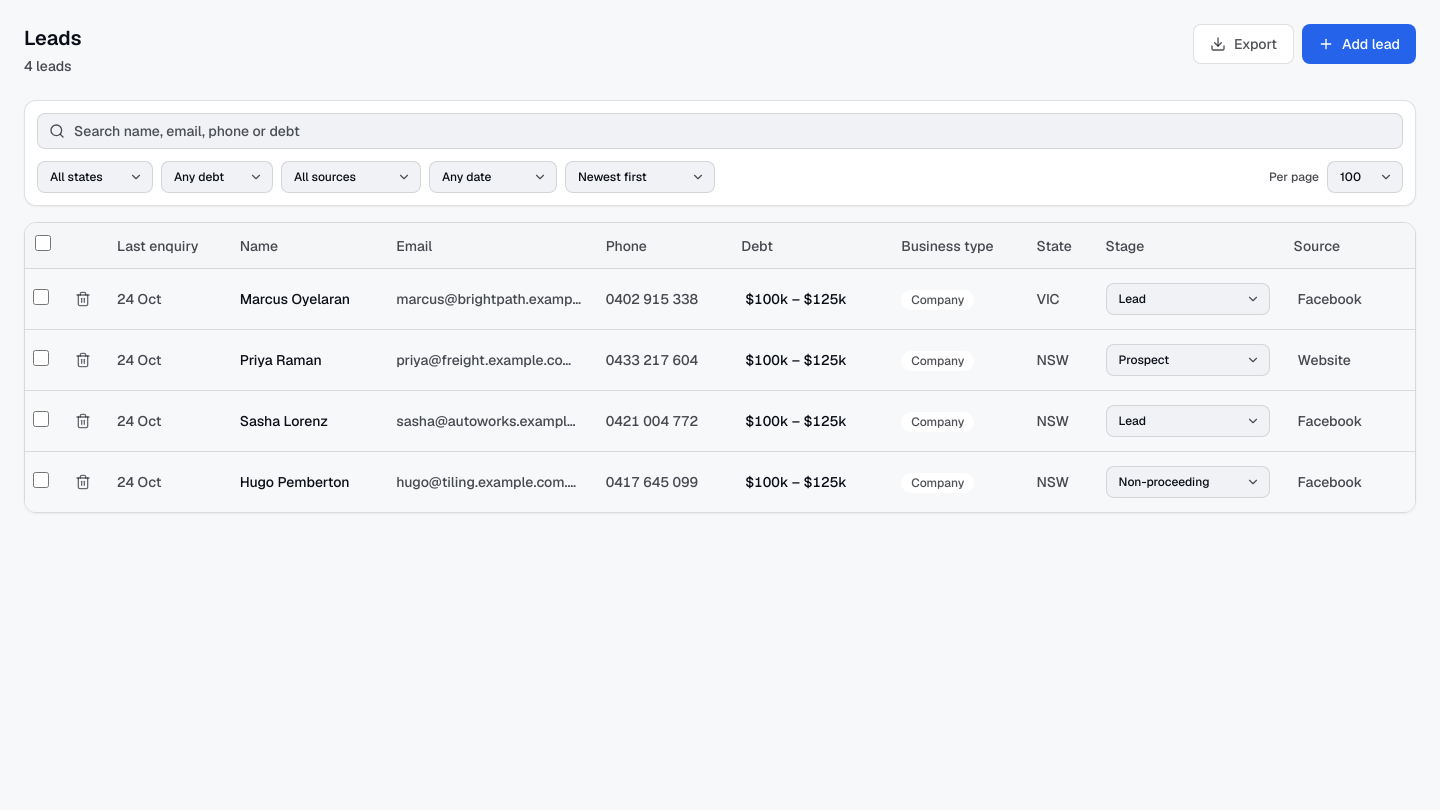
Test case: LeadsPageClient › opens the add-lead dialog with no company field
The image size is (1440, 810).
Click the button "Add lead". click: point(1359, 44)
box: [1302,24,1416,64]
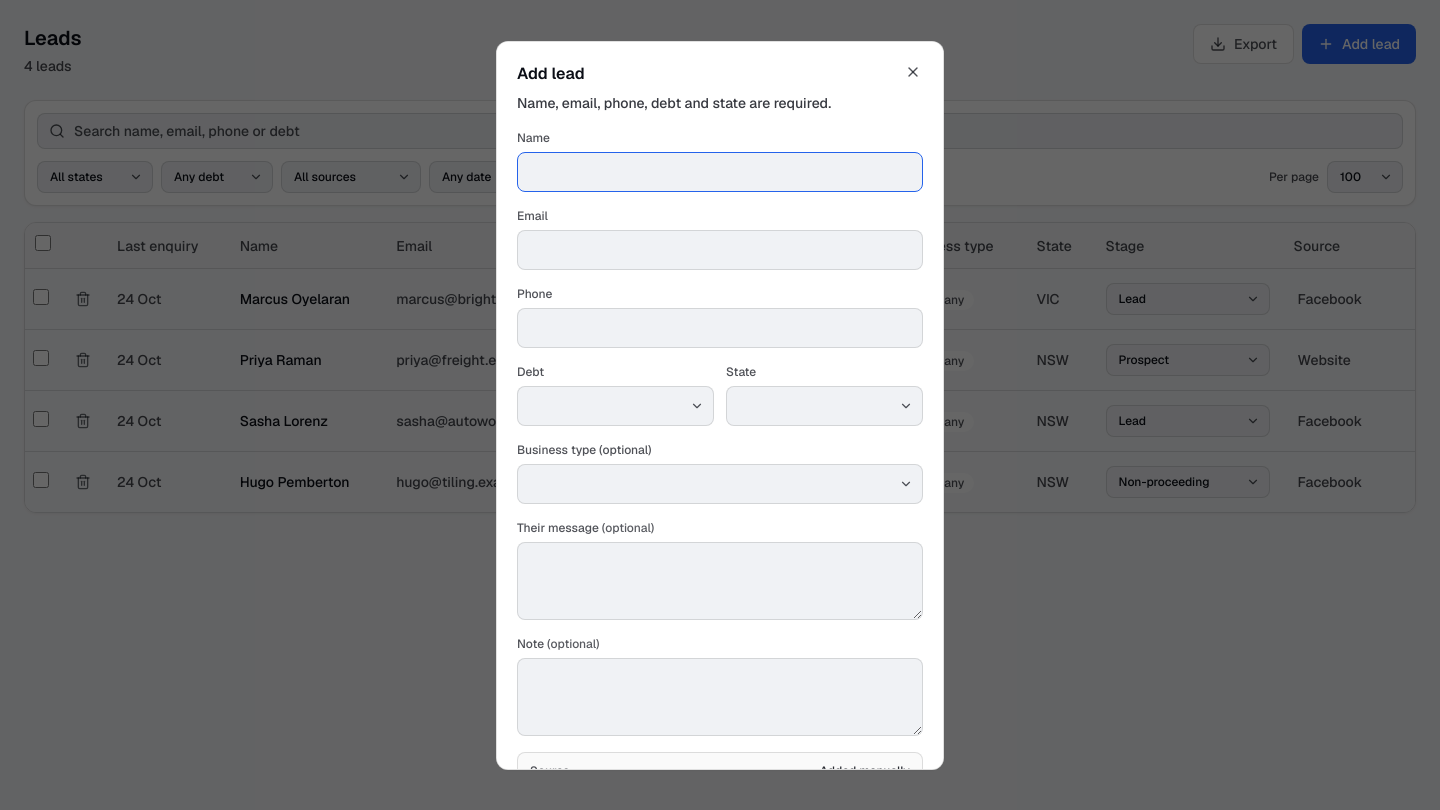
Result: the field labelled "Name" is shown at [517,152,923,192]
Result: the field labelled "Email" is shown at [517,230,923,270]
Result: the field labelled "Phone" is shown at [517,308,923,348]
